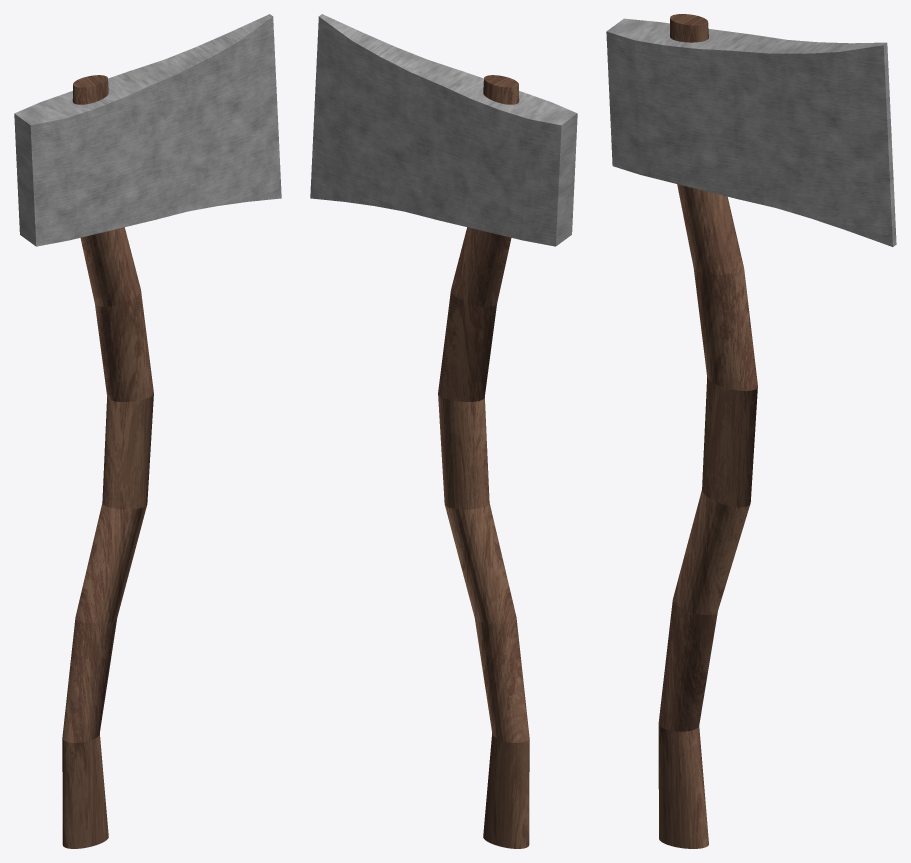
File: Axe.obj
3 views of the same model, side by side, from view 1: azimuth 30°, elevation 25°; view 2: azimuth 150°, elevation 25°; view 3: azimuth 330°, elevation 25° (orthographic). The views are drawn at different scales.
Parts seen in each view (by area): view 1: Cube, Cylinder; view 2: Cube, Cylinder; view 3: Cube, Cylinder.
Part boxes in pixels (x1=…): Cube: x1=14, y1=14, x2=281, y2=246; Cylinder: x1=62, y1=75, x2=153, y2=848; Cube: x1=310, y1=14, x2=577, y2=246; Cylinder: x1=438, y1=75, x2=529, y2=848; Cube: x1=606, y1=18, x2=896, y2=246; Cylinder: x1=658, y1=14, x2=757, y2=848.
Bounding box in the file's own units: 0.335 × 0.9704 × 0.054.
2 materials, 2 textured.
